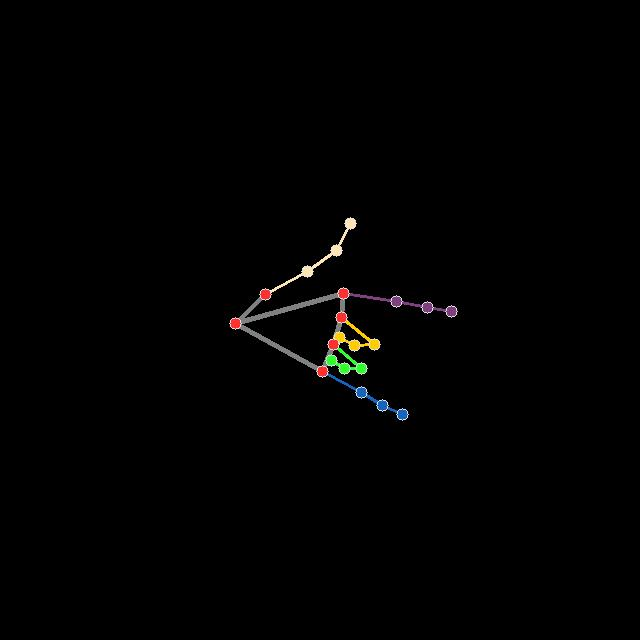spiderman: (229, 216, 458, 423)
